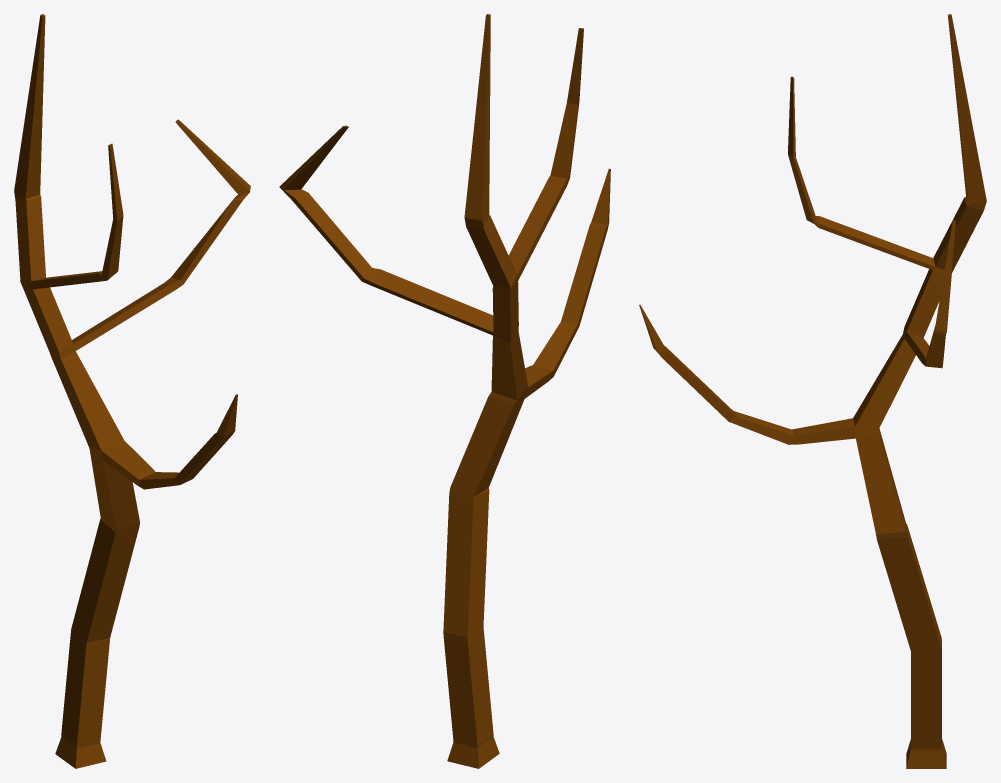
Rendered from tree_5.fbx.
3 views of the same model, side by side, from view 1: azimuth 30°, elevation 25°; view 2: azimuth 150°, elevation 25°; view 3: azimuth 270°, elevation 25° (orthographic). The views are drawn at different scales.
Visible parts, largest first — view 1: Trunk; view 2: Trunk; view 3: Trunk.
Part boxes in pixels (left/top/right/bottom): Trunk: left=14, top=14, right=250, bottom=768; Trunk: left=279, top=14, right=610, bottom=768; Trunk: left=639, top=14, right=986, bottom=768.
Bounding box in the file's own units: 541 × 1675 × 719.
